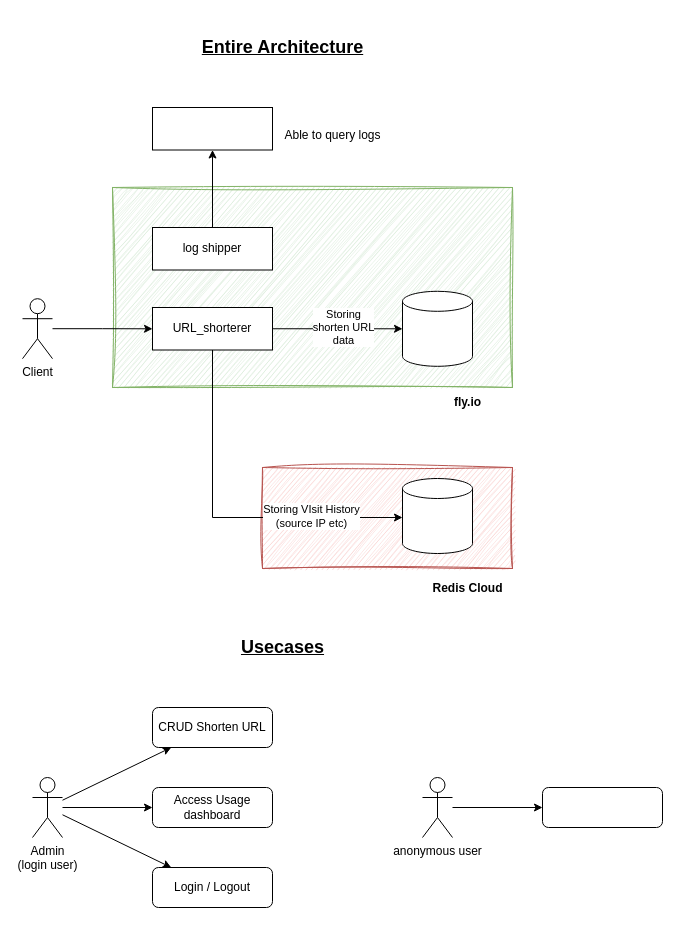
Image size: 680x925. Some labels were removed from this diagram. The centre of each missing label's shape, as x and y in pixels:
/goto/ (access to shorten url): point 602,807
BetterStack: point 212,128
Postgres: point 437,328
Redis: point 437,516
